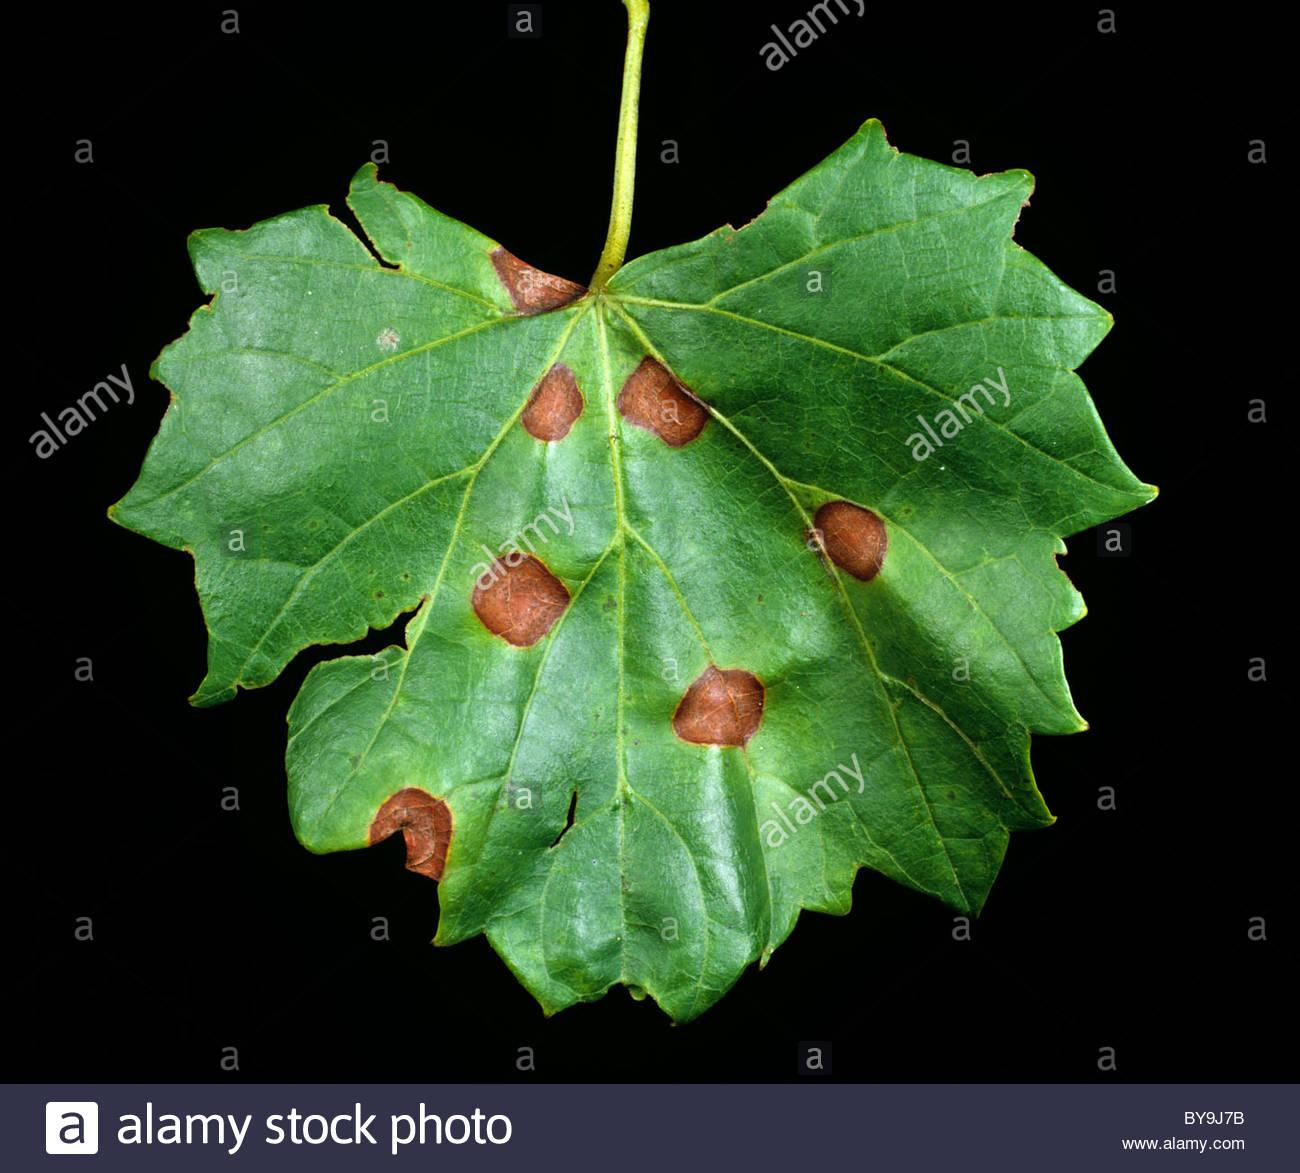grape leaf: (104, 97, 1172, 1038)
